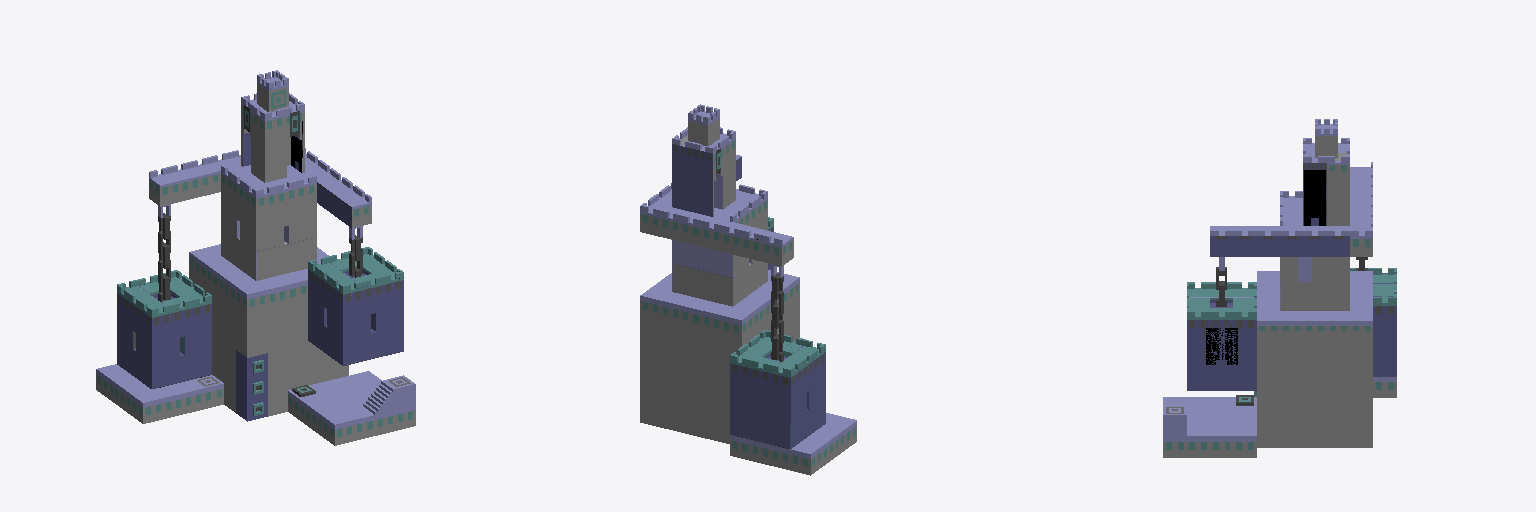
3 views of the same model, side by side, from view 1: azimuth 30°, elevation 25°; view 2: azimuth 150°, elevation 25°; view 3: azimuth 270°, elevation 25° (orthographic).
Visible parts, largest first — view 1: untitled-4; view 2: untitled-4; view 3: untitled-4.
Boxes of the visible parts, box(x1,y1,x2,y2) form: untitled-4: box(96, 70, 415, 445); untitled-4: box(640, 104, 856, 475); untitled-4: box(1163, 119, 1396, 457).
Bounding box in the file's own units: 80 × 115 × 80.
Materials: 1 (1 with a texture image).